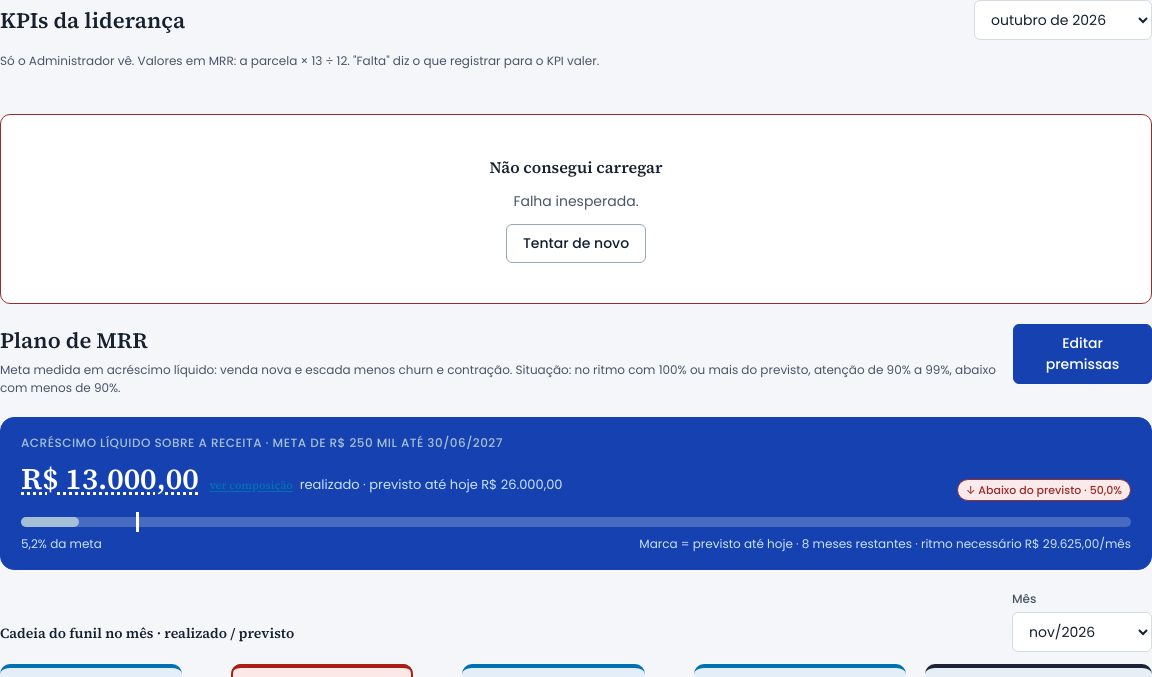
Test: Funil › Inteligência de Conversão › o Administrador edita as premissas e a tela passa a usar o plano devolvido
Click the button "Editar premissas" at (1082, 354), box [1013,324,1151,384]
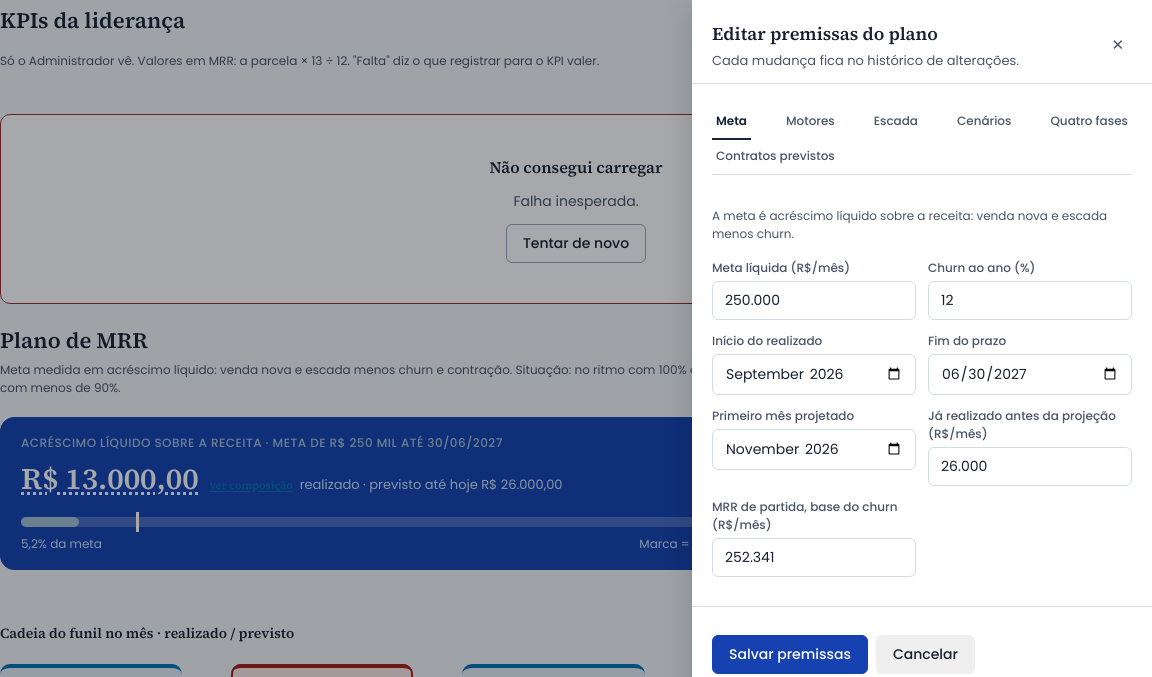
Click the tab "Cenários" at (984, 122), box [953,104,1016,140]
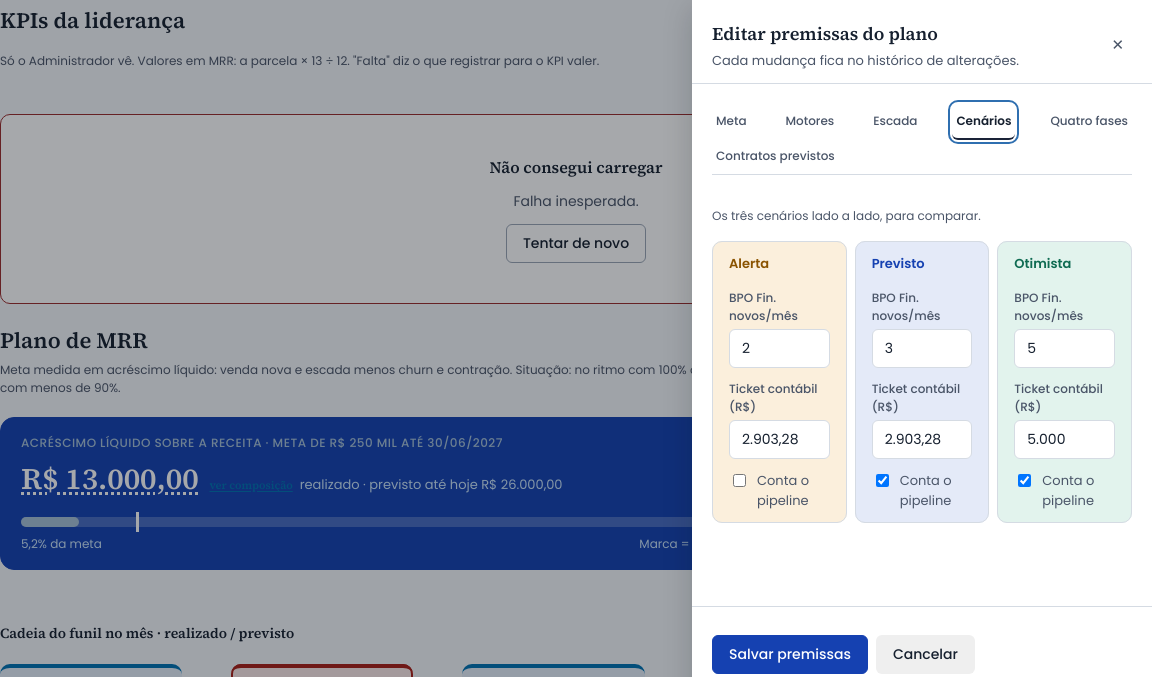
Replace the text in the 2nd number field labelled "BPO Fin. novos/mês" with "4" at (922, 348), box [872,329,972,368]
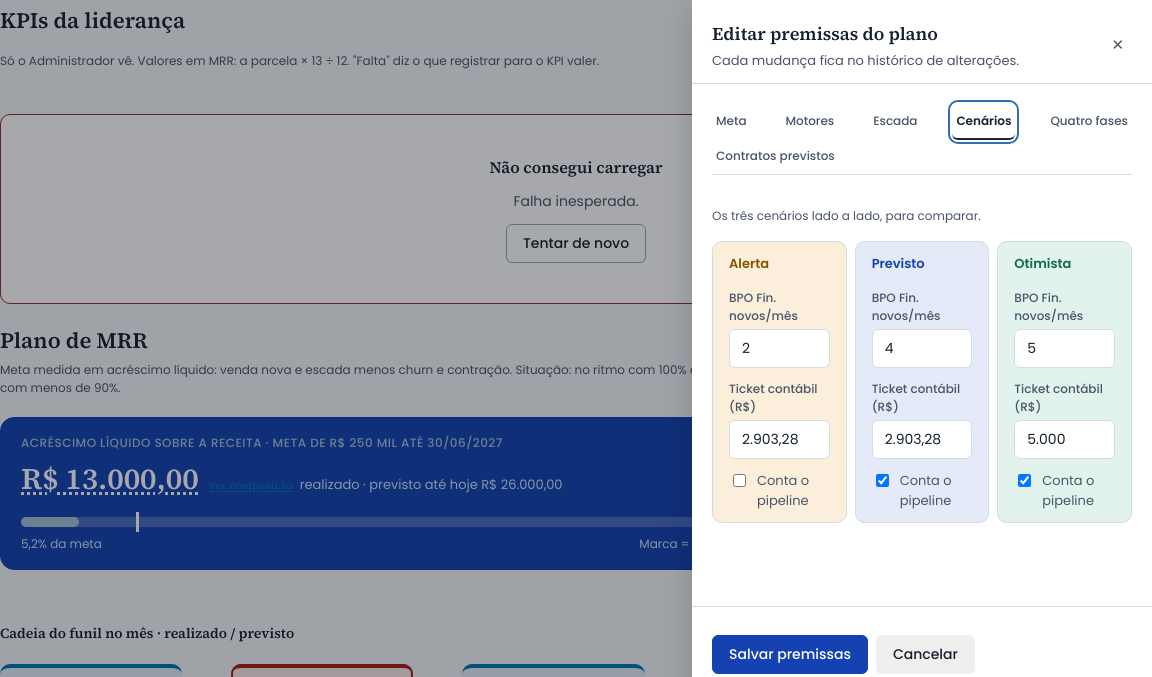
Click the tab "Meta" at (731, 122), box [712,104,751,140]
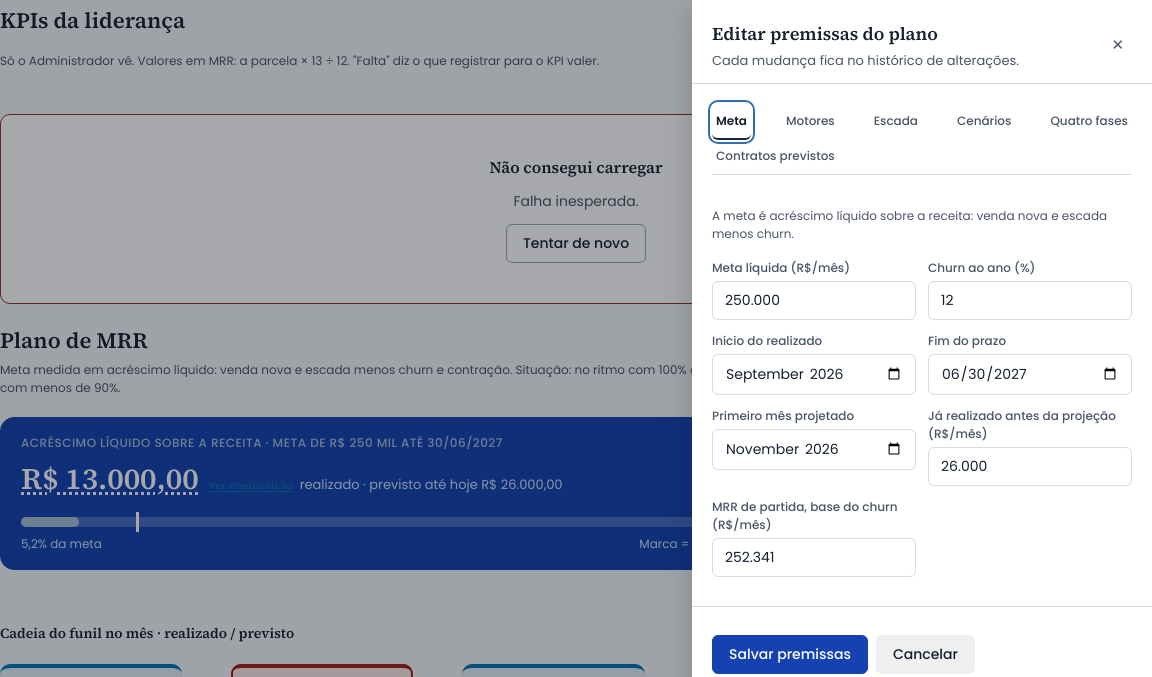
Click the tab "Cenários" at (984, 122), box [953,104,1016,140]
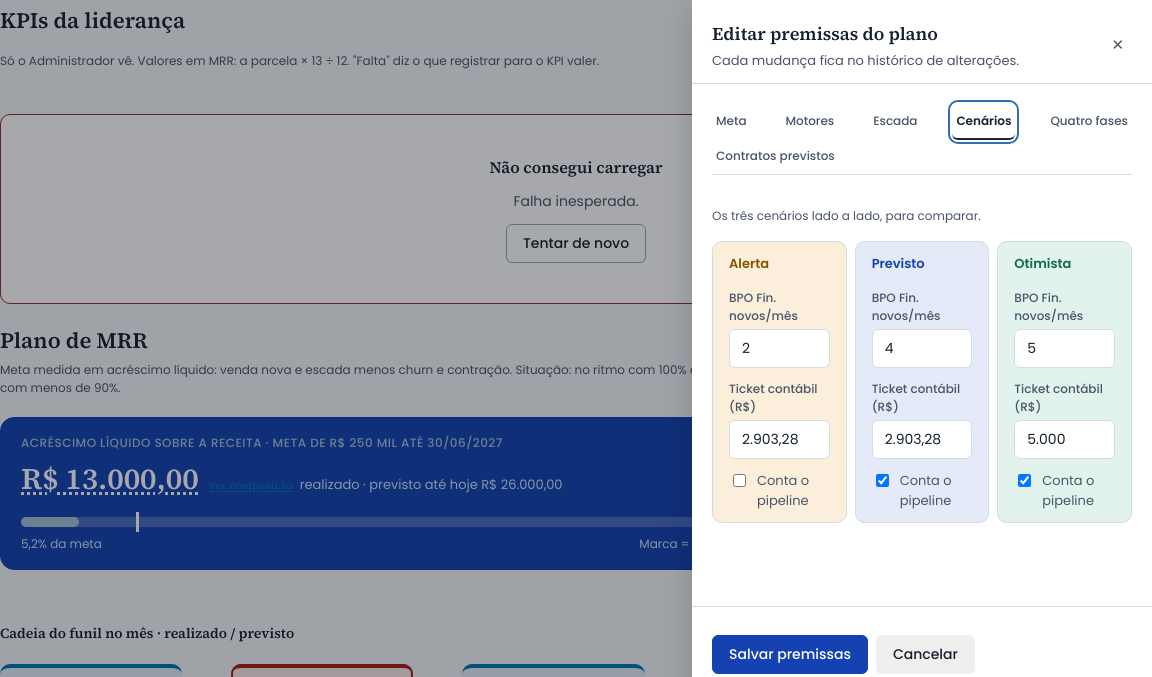
Result: the 2nd number field labelled "BPO Fin. novos/mês" holds "4" at [872,329,972,368]
Click the button "Salvar premissas" at (790, 654), box [712,635,868,674]
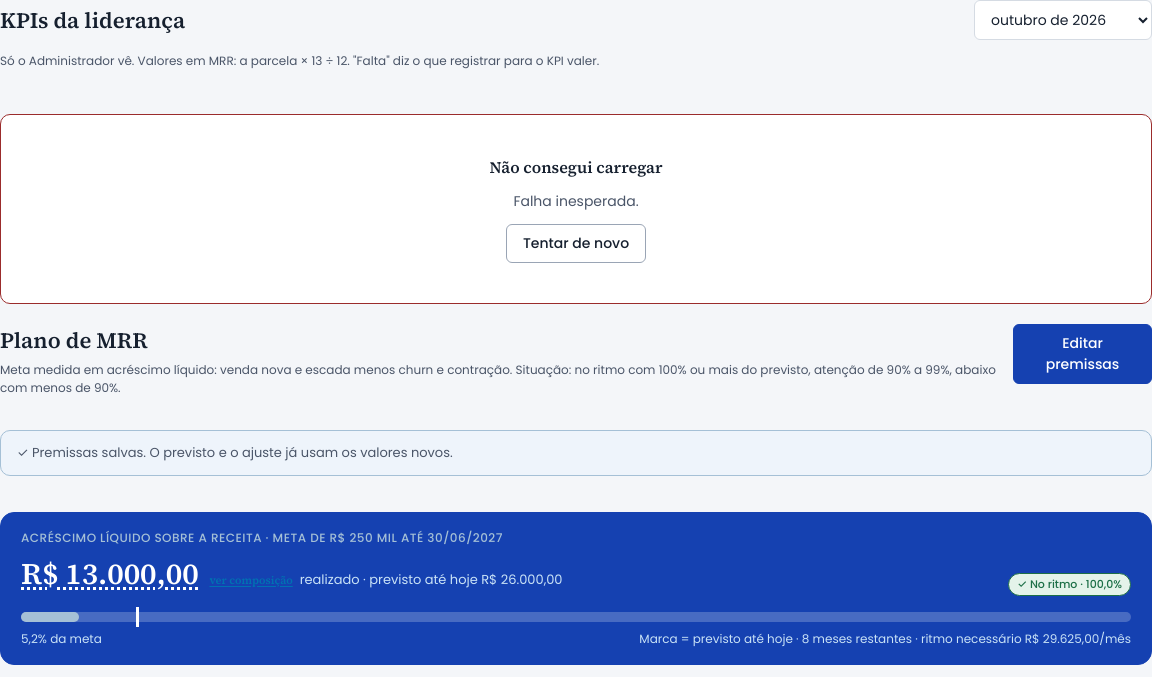
Result: the message "✓ Premissas salvas. O previsto e o ajuste já usam os valores novos." is shown at [0,430,1151,476]
Result: the text "No ritmo · 100,0%" is shown at [1008,573,1131,596]
